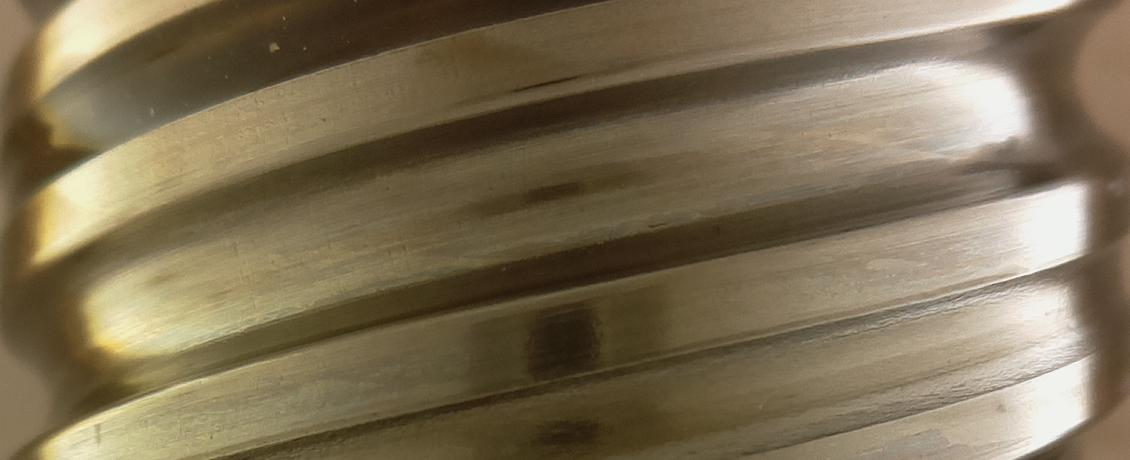pitting: (712, 225, 721, 232)
